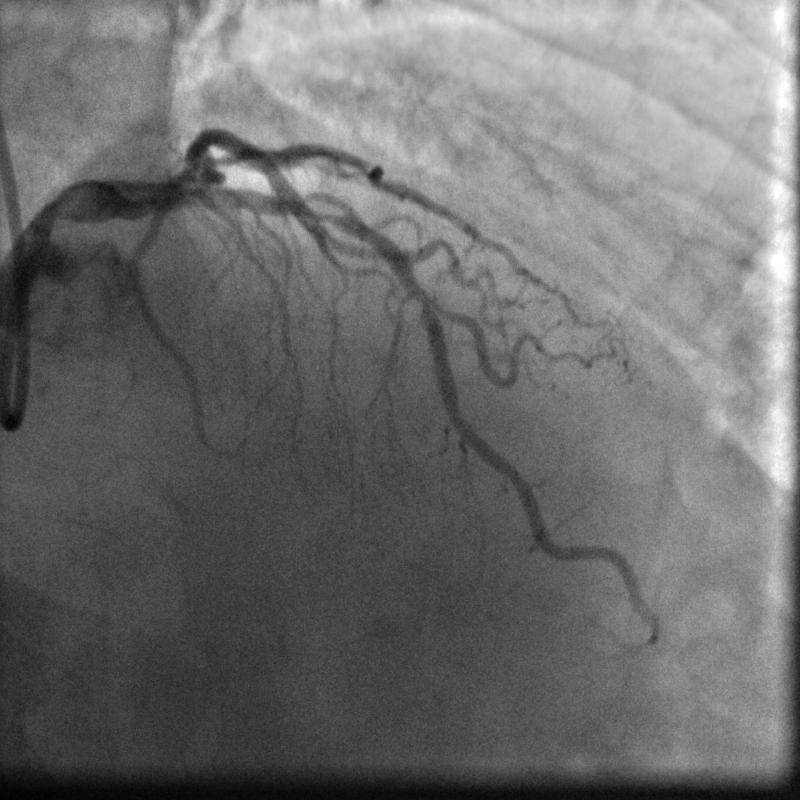Stenosis: (290, 198, 338, 221)
